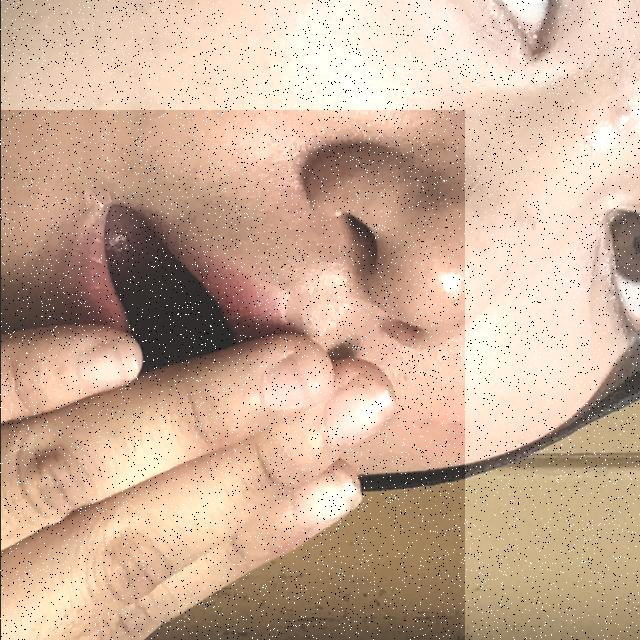ngantuk: (0, 110, 464, 640)
